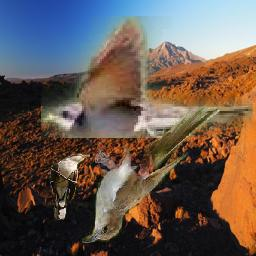Cuckoo: (41, 16, 253, 138), (83, 105, 222, 243), (50, 154, 91, 221)
